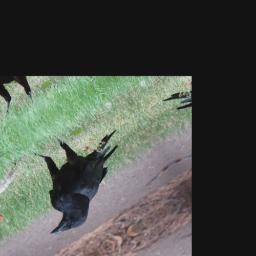Crow: (5, 108, 152, 243)
